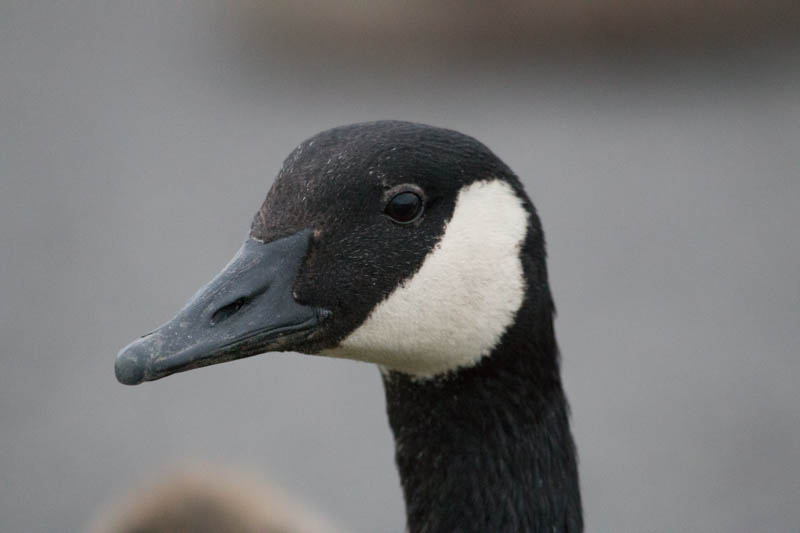goose-head: (114, 120, 548, 387)
